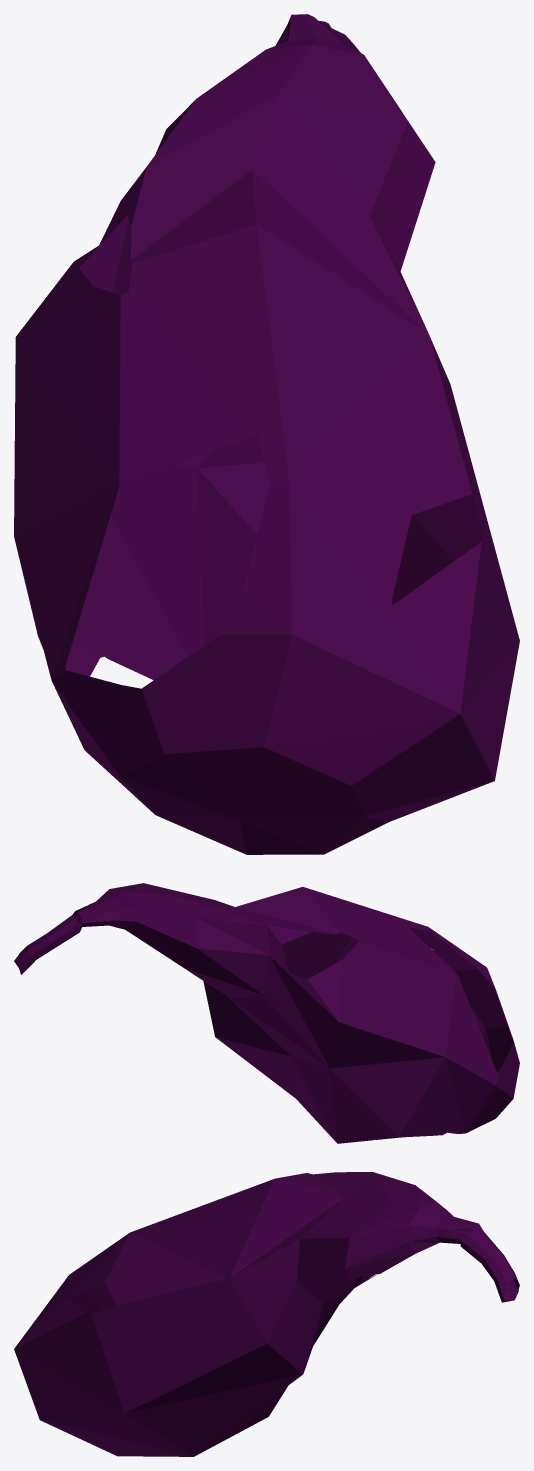
File: gall.gltf
3 renders of one model, top to bottom at view 1: azimuth 30°, elevation 25°; view 2: azimuth 150°, elevation 25°; view 3: azimuth 270°, elevation 25°, orthographic. The views are drawn at different scales.
Parts seen in each view (by area): view 1: node_id32.003; view 2: node_id32.003; view 3: node_id32.003.
Boxes of the visible parts, x1,y1,x2,y2 form: node_id32.003: (14, 14, 519, 854); node_id32.003: (14, 883, 519, 1143); node_id32.003: (14, 1172, 519, 1456).
Bounding box in the file's own units: 0.4898 × 0.426 × 0.6456.
